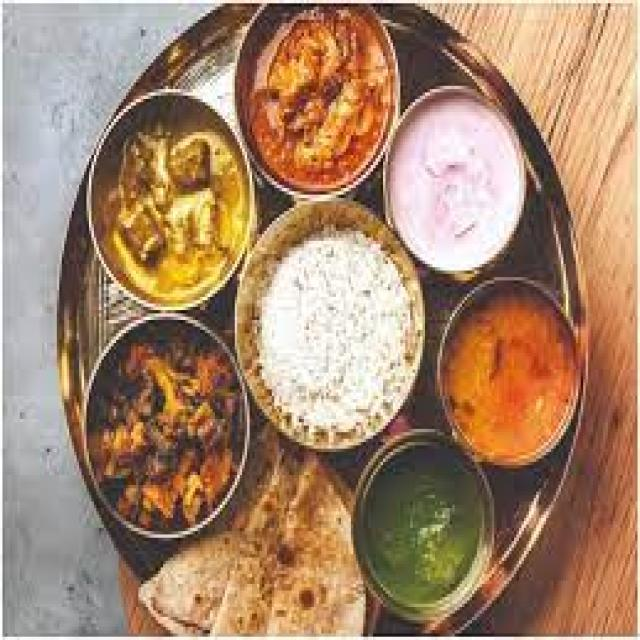curd: (380, 93, 529, 270)
rice: (248, 234, 419, 441)
sweet: (439, 297, 576, 458)
veg-fry: (242, 8, 393, 195)
